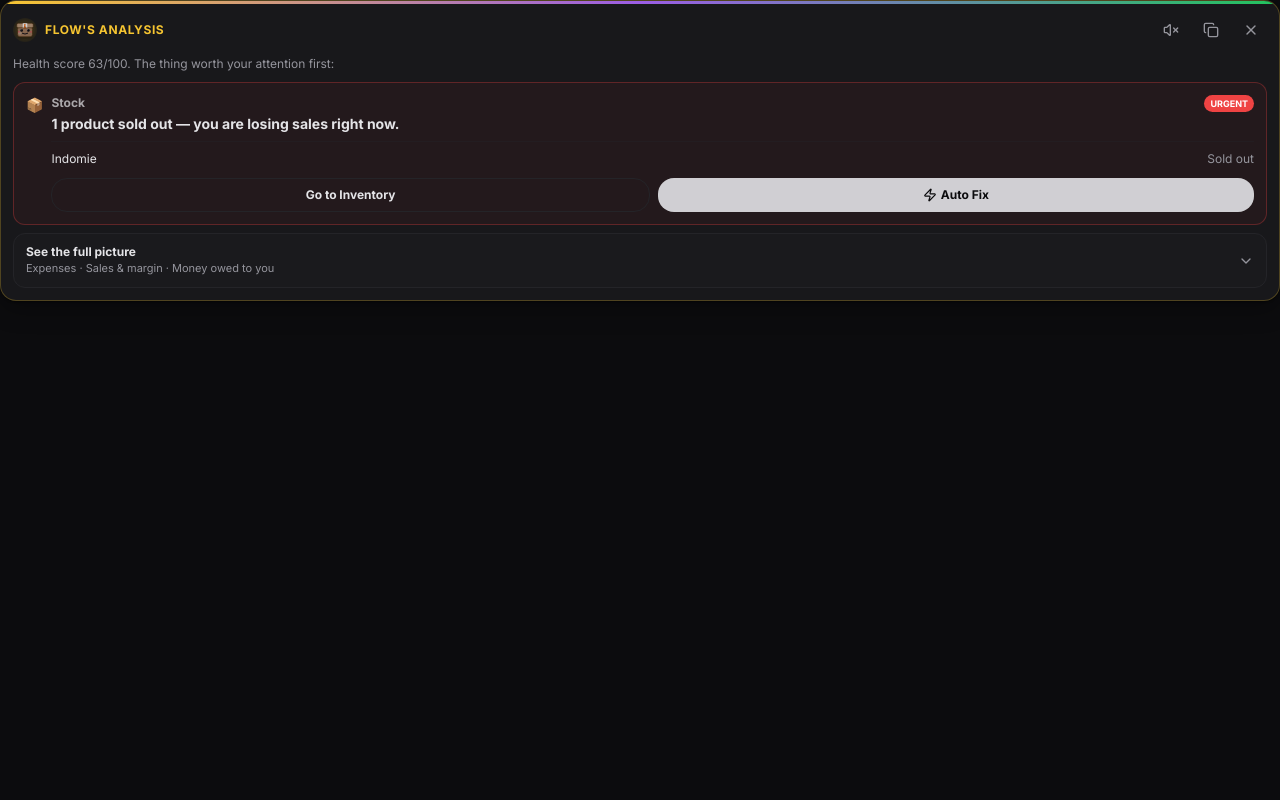
Test case: rendering › shows only the headline until you ask for the rest
expect the heading "Stock" is shown: met, box [52,94,85,110]
What coordinates should you click on to do the following:
click the text "See the full picture"
I would click on:
 (81, 252)
Its box is [26,244,136,259].
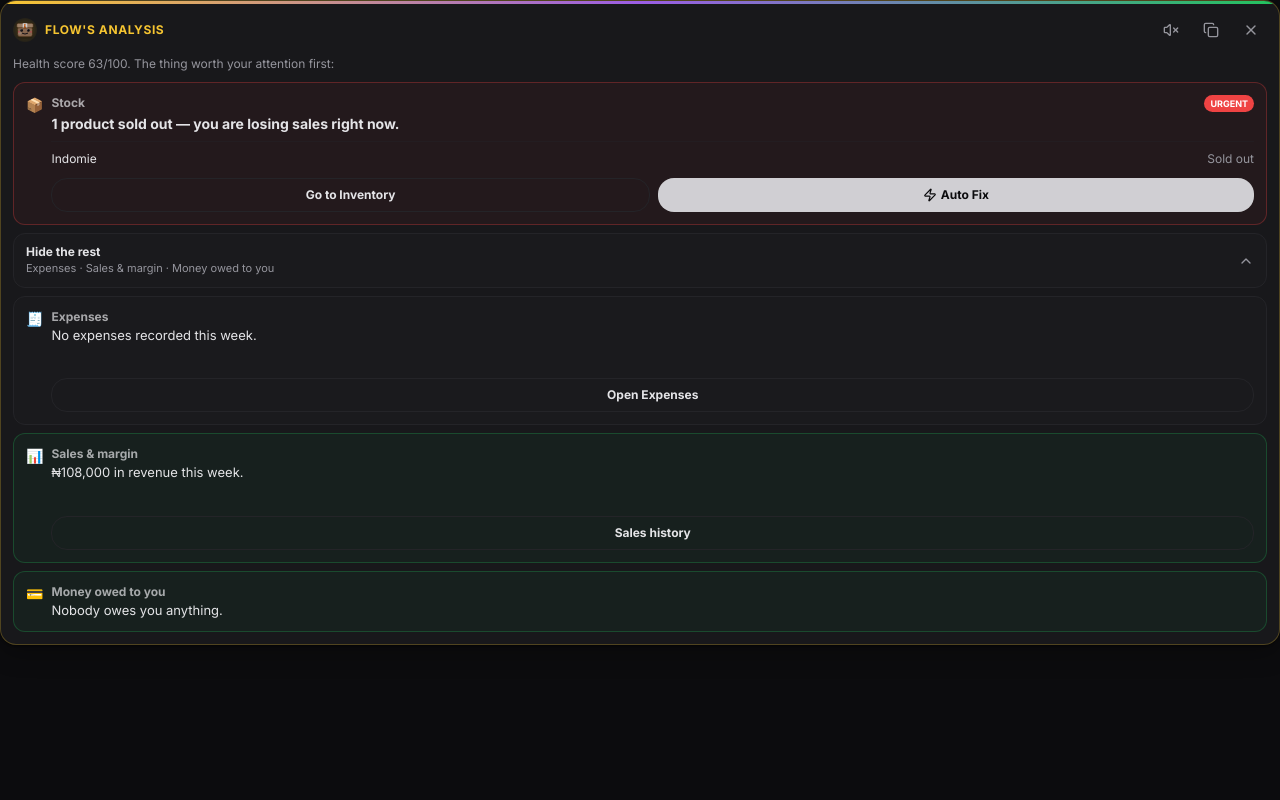
expect the heading "Expenses" is shown: met, box [52,309,108,325]
